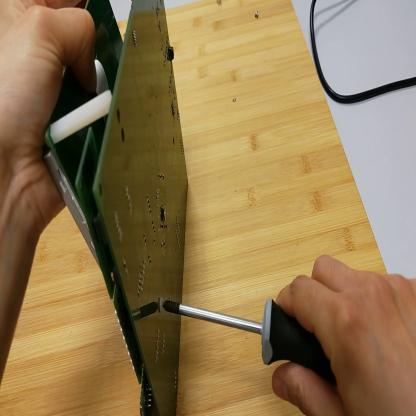hand: (273, 258, 416, 416), (2, 2, 101, 229)
low voltage board: (45, 1, 189, 415)
screwdriver-: (164, 298, 337, 387)
working area: (1, 3, 389, 415)
